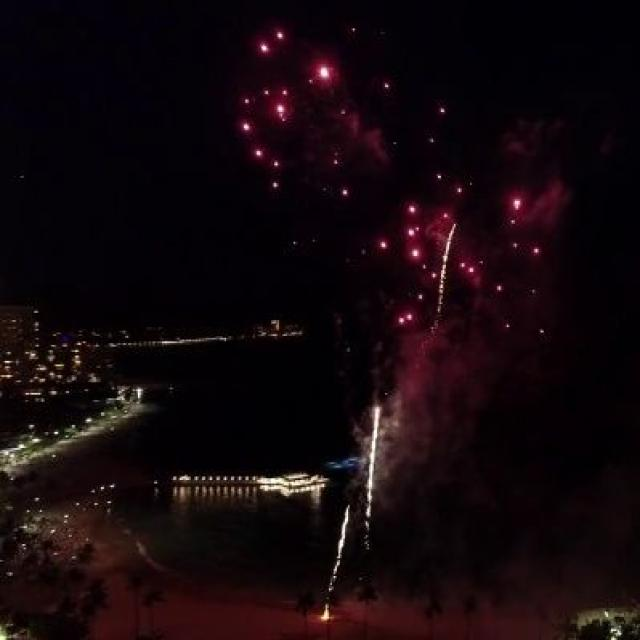Smoke: (392, 334, 486, 474), (530, 179, 562, 219)
